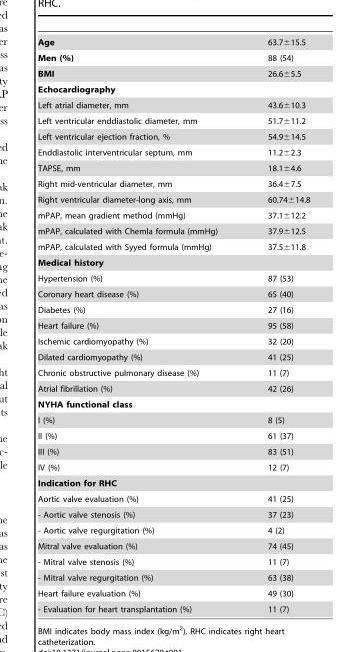table: (37, 37, 309, 613)
table column: (37, 37, 241, 613), (241, 37, 309, 613)
table projected row header: (37, 254, 309, 270), (37, 396, 309, 412), (37, 81, 309, 96), (37, 475, 309, 490)
table row: (37, 49, 309, 65), (37, 65, 309, 81), (37, 96, 309, 112), (37, 112, 309, 128), (37, 128, 309, 144), (37, 159, 309, 175), (37, 175, 309, 191), (37, 191, 309, 207), (37, 222, 309, 238), (37, 238, 309, 254), (37, 254, 309, 270), (37, 270, 309, 286), (37, 301, 309, 317), (37, 317, 309, 333), (37, 333, 309, 349), (37, 364, 309, 380), (37, 380, 309, 396), (37, 396, 309, 412), (37, 427, 309, 443), (37, 443, 309, 459), (37, 459, 309, 475), (37, 490, 309, 506), (37, 506, 309, 522), (37, 522, 309, 538), (37, 553, 309, 569), (37, 569, 309, 585), (37, 585, 309, 601), (37, 81, 309, 96), (37, 144, 309, 159), (37, 207, 309, 222), (37, 286, 309, 301), (37, 349, 309, 364), (37, 412, 309, 427), (37, 475, 309, 490), (37, 538, 309, 553), (37, 37, 309, 49), (37, 601, 309, 613)
